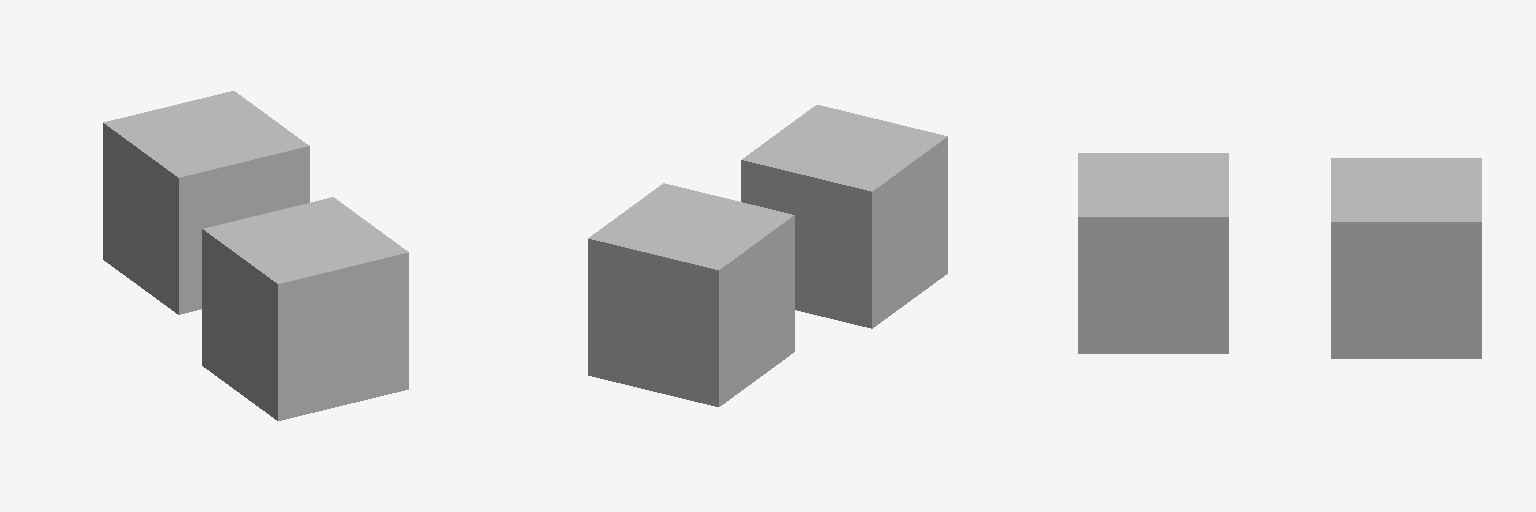
The model's file is twoblock.obj.
3 views of the same model, side by side, from view 1: azimuth 30°, elevation 25°; view 2: azimuth 150°, elevation 25°; view 3: azimuth 270°, elevation 25° (orthographic).
Visible parts, largest first — view 1: Cube; view 2: Cube; view 3: Cube.
Boxes of the visible parts, <box> form: Cube: <box>103,91,408,420</box>; Cube: <box>588,105,947,406</box>; Cube: <box>1078,153,1481,358</box>.
Bounding box in the file's own units: 2.41 × 2.11 × 5.34.